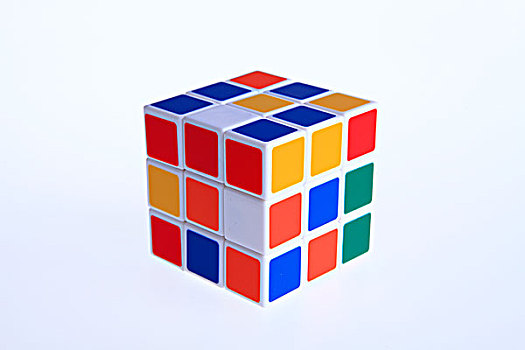cube: (142, 61, 378, 308)
